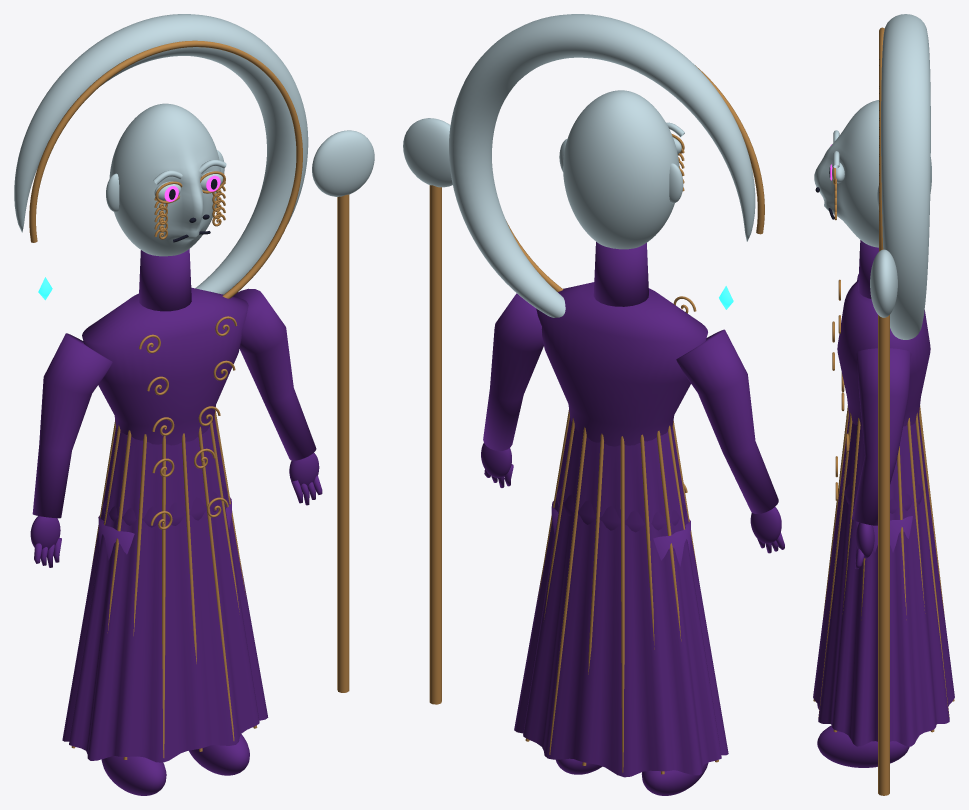
File: crescent-weaver.glb
The picture shows the model from 3 angles, left to right: view 1: azimuth 30°, elevation 25°; view 2: azimuth 150°, elevation 25°; view 3: azimuth 270°, elevation 25°; orthographic projection. The views are drawn at different scales.
Visible parts, largest first — view 1: Crescent Weaver / purple, Crescent Weaver / pearl, Crescent Weaver / gold; view 2: Crescent Weaver / purple, Crescent Weaver / pearl, Crescent Weaver / gold; view 3: Crescent Weaver / purple, Crescent Weaver / pearl, Crescent Weaver / gold.
Part boxes in pixels (x1,y1,x2,y2): Crescent Weaver / purple: (30, 249, 322, 795); Crescent Weaver / pearl: (14, 14, 374, 294); Crescent Weaver / gold: (29, 40, 349, 759); Crescent Weaver / purple: (481, 242, 784, 795); Crescent Weaver / pearl: (403, 14, 755, 317); Crescent Weaver / gold: (429, 65, 764, 774); Crescent Weaver / purple: (813, 240, 954, 767); Crescent Weaver / pearl: (814, 14, 931, 339); Crescent Weaver / gold: (813, 27, 954, 795).
Size of the model in its own units: 1.27 by 2.55 by 0.4567.
